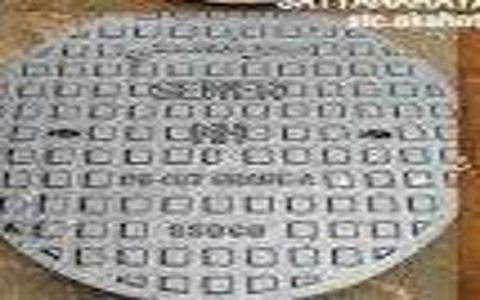proper manhole: (5, 27, 458, 293)
